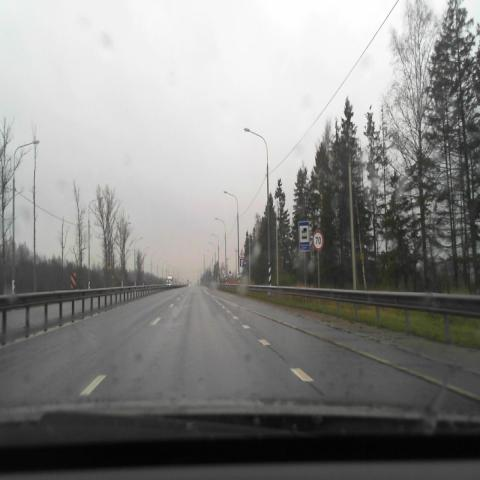7_14: (298, 222, 310, 252)
